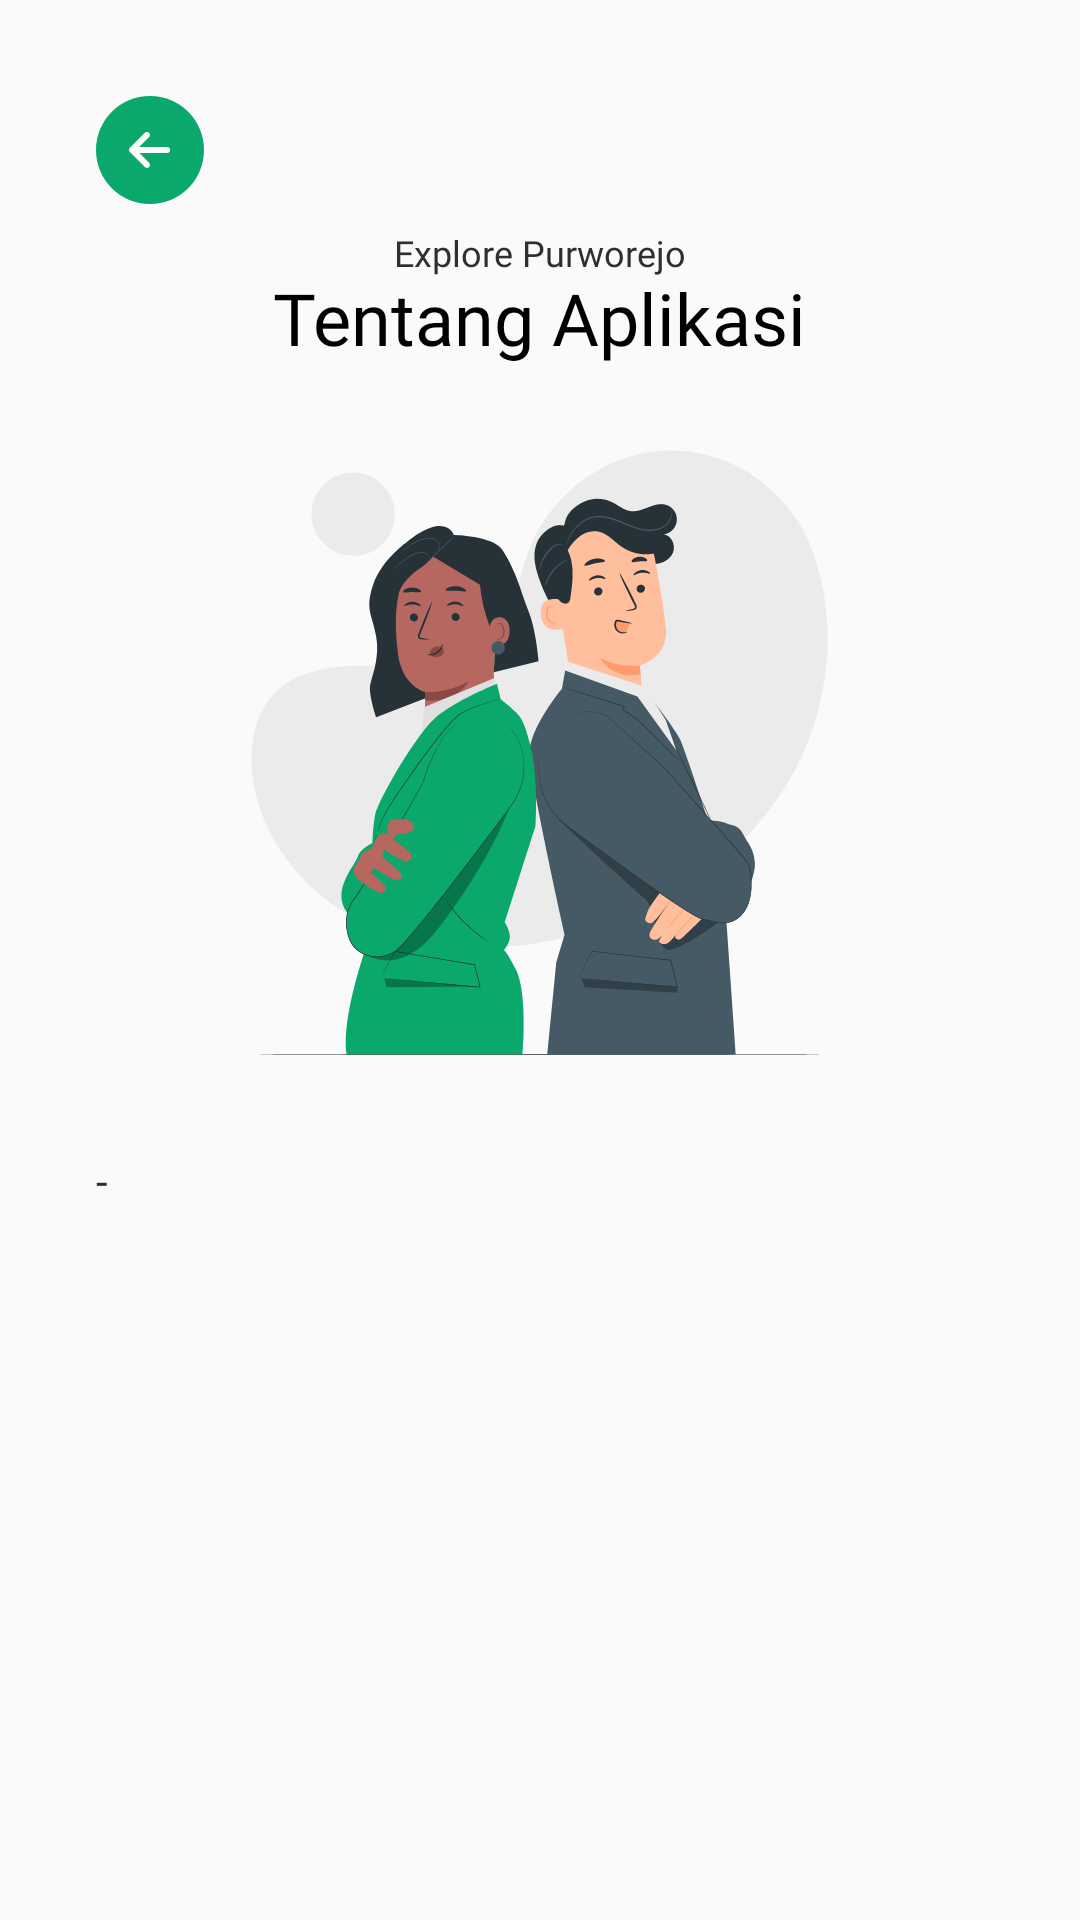

Icons on this 1080w x 1920h Android screen, each with the point to tap as (x,y):
kembali bghijau: (150,150)
